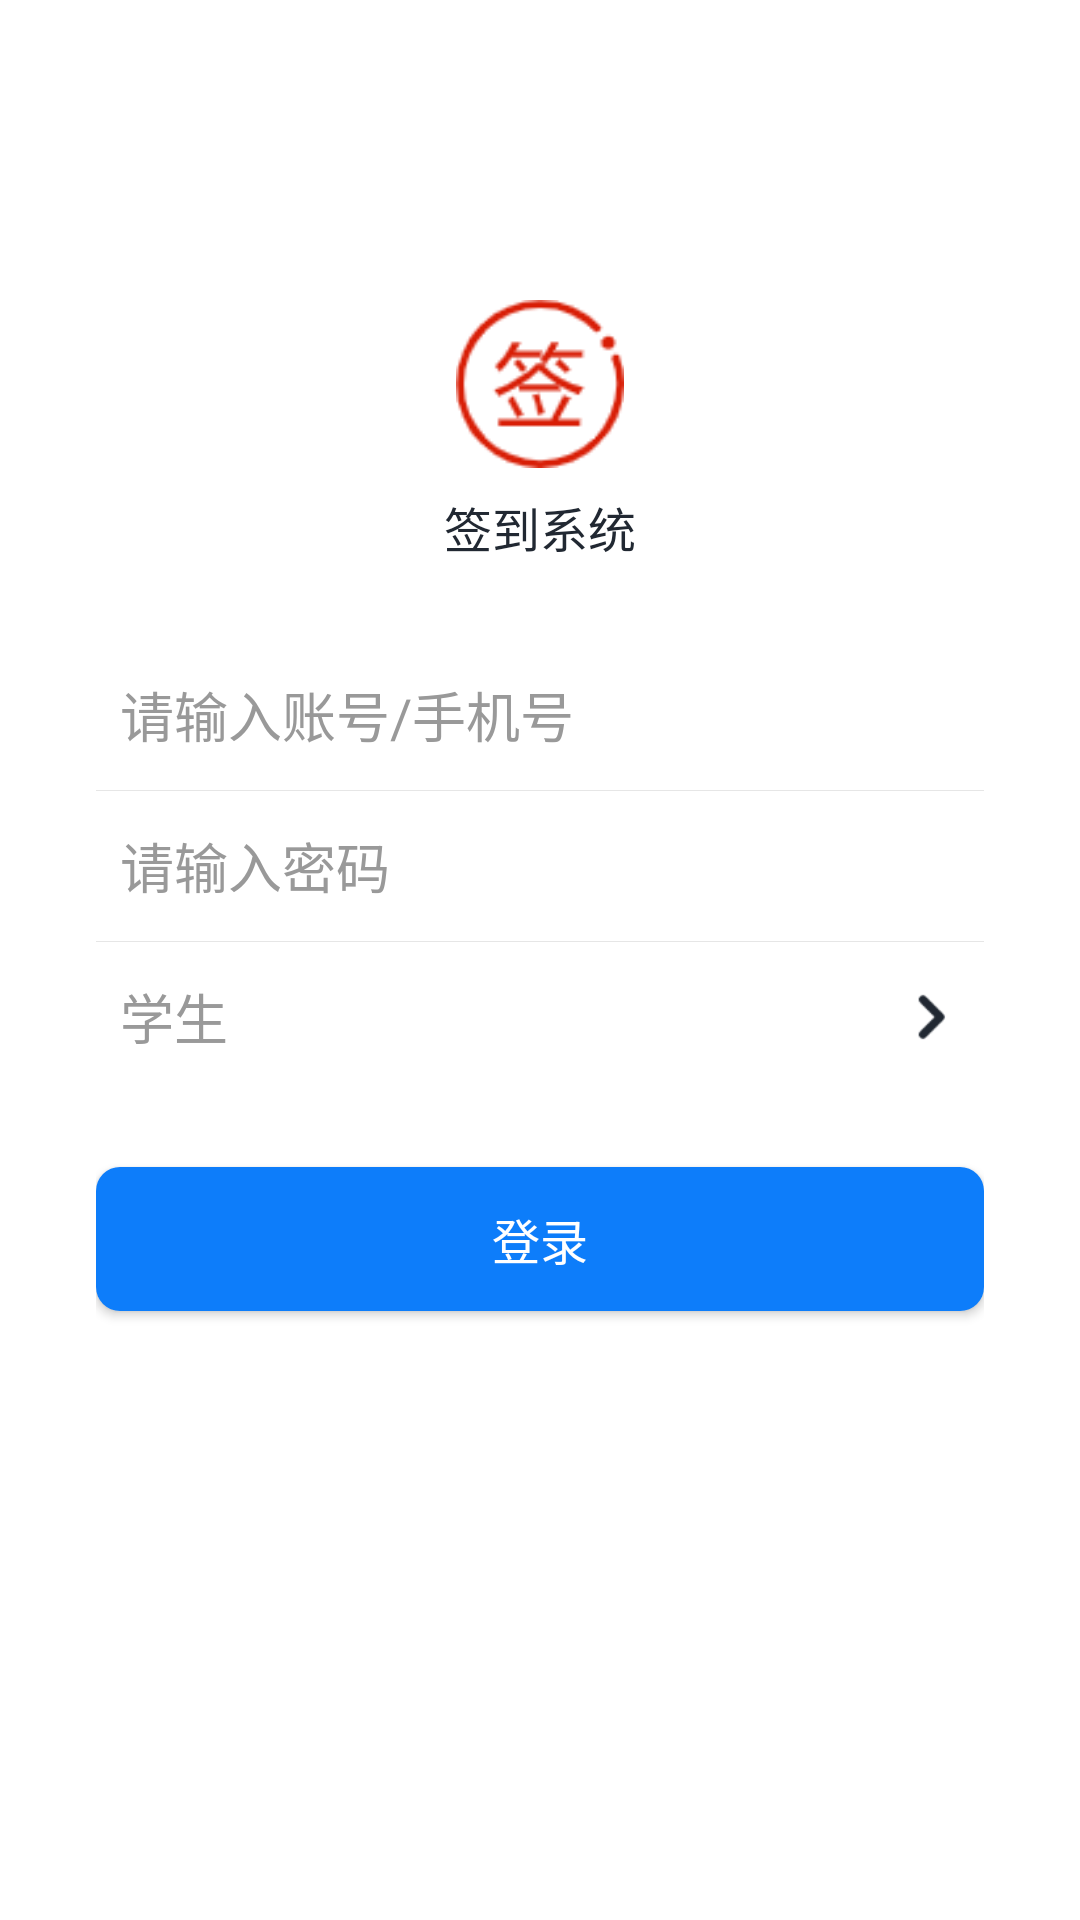

Icons on this 1080*1920 Android screen, each with the point to tap as point (x, y):
login more: point (931, 1017)
